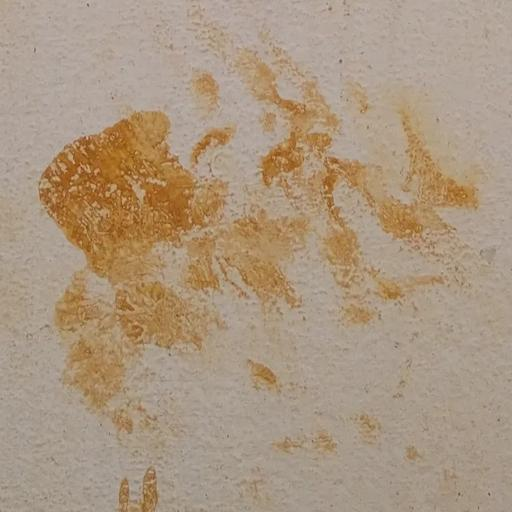stain: (52, 94, 340, 419), (189, 26, 494, 221), (283, 183, 466, 337), (243, 395, 466, 499), (91, 449, 197, 512)
